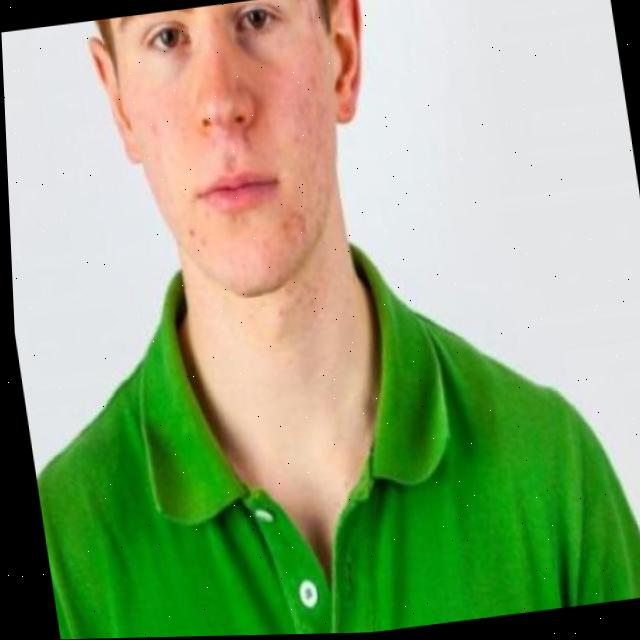Acne: (253, 48, 348, 236), (182, 214, 220, 257)
